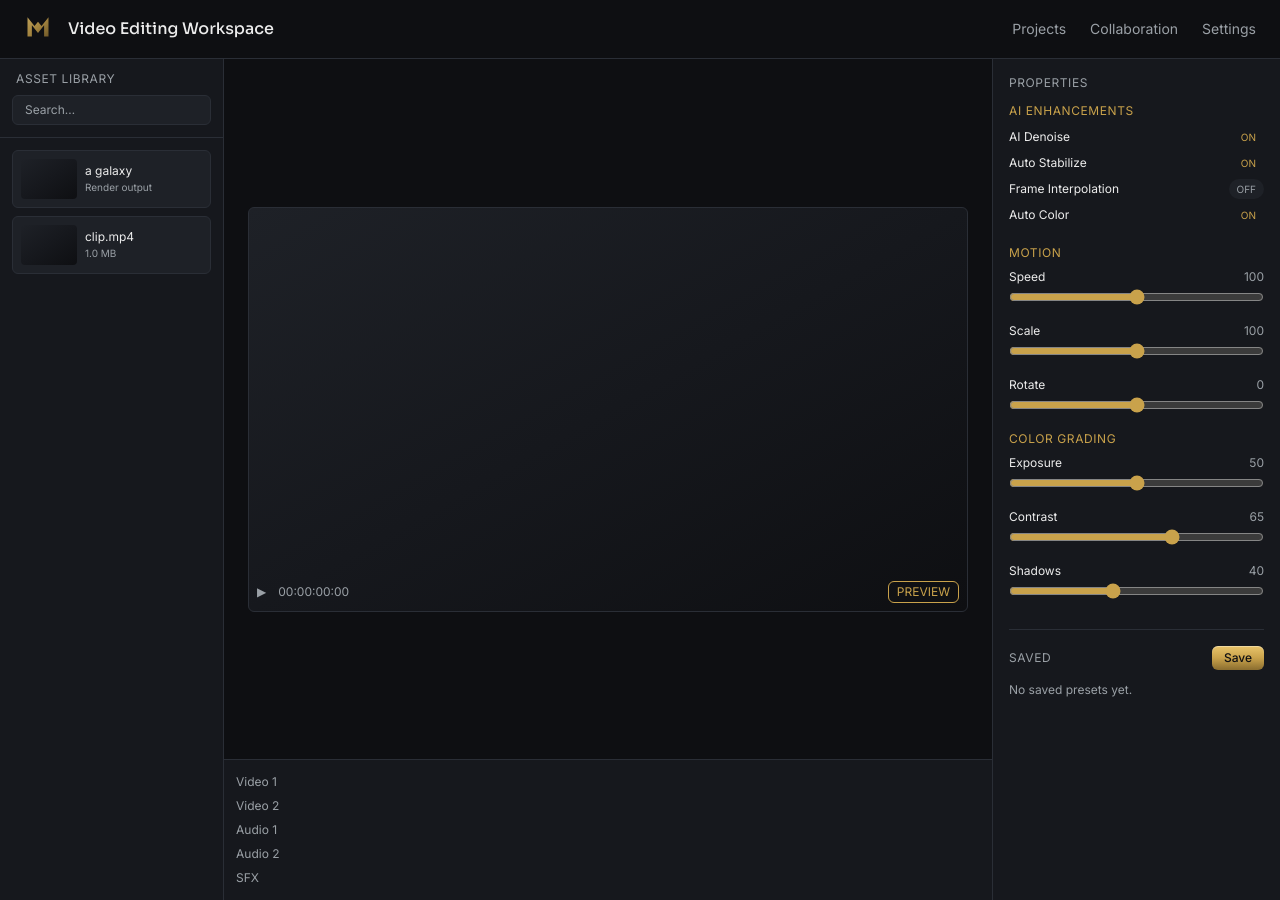
Editor page › AI enhancement toggles flip on click
Step 1. Click the button with test id "toggle-denoise" → x=1248, y=137, box top-left (1233, 127), bottom-right (1264, 147)
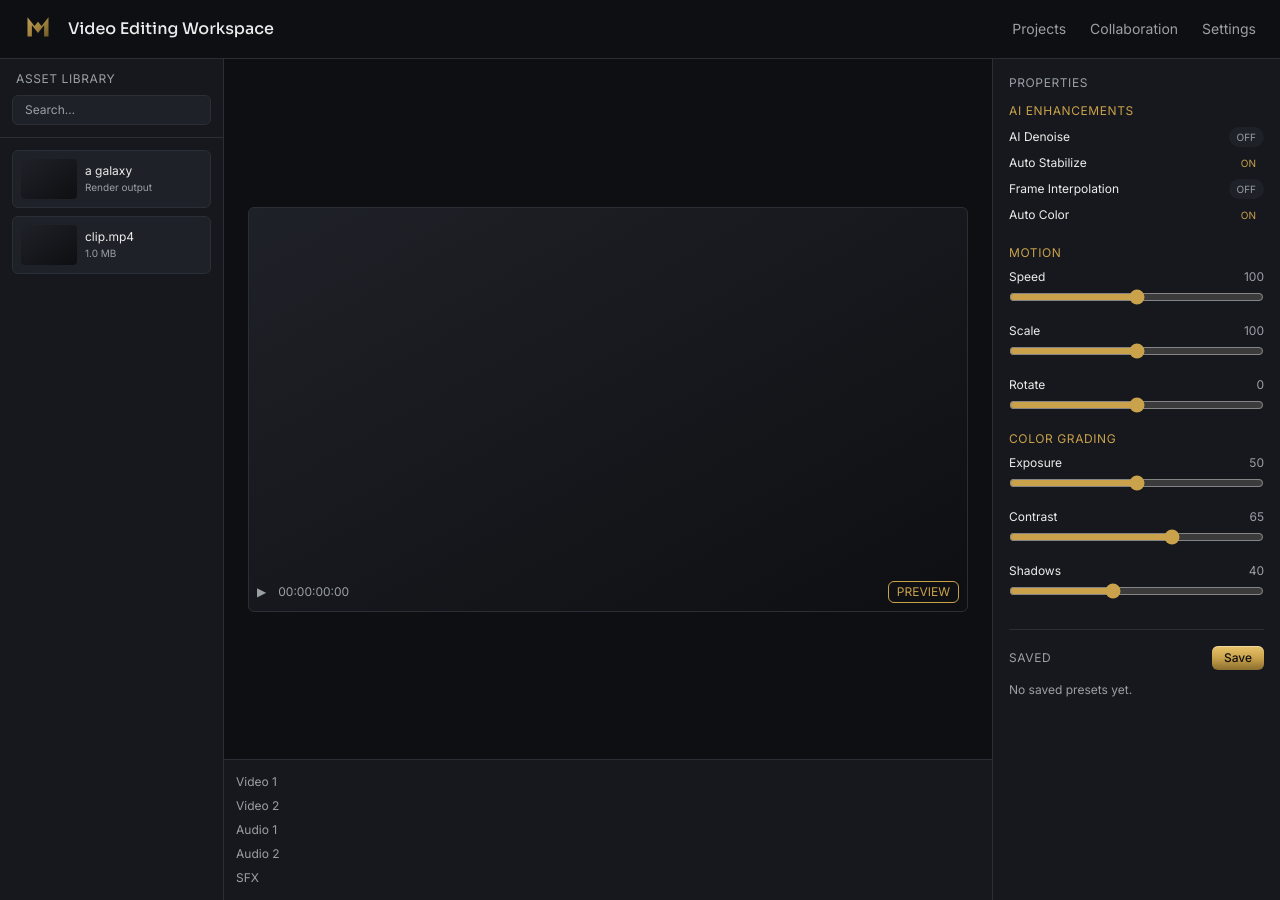
Result: the button with test id "toggle-denoise" reads "OFF" at top-left (1228, 127), bottom-right (1264, 147)
